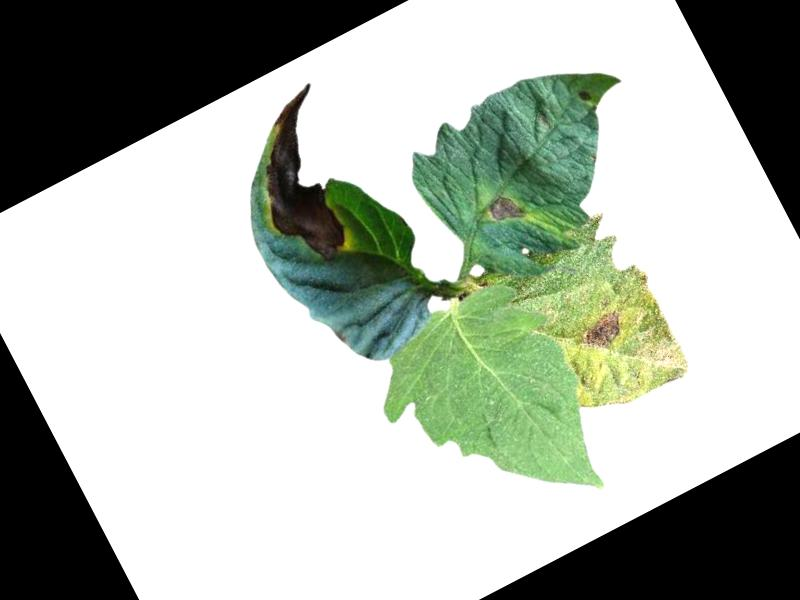Early_blight: (221, 81, 390, 280), (573, 305, 629, 356), (482, 187, 529, 233), (573, 87, 593, 107)
healthy: (348, 263, 630, 565)
